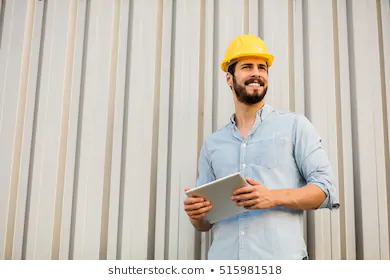Person_wearing_helmet: (218, 30, 274, 77)
